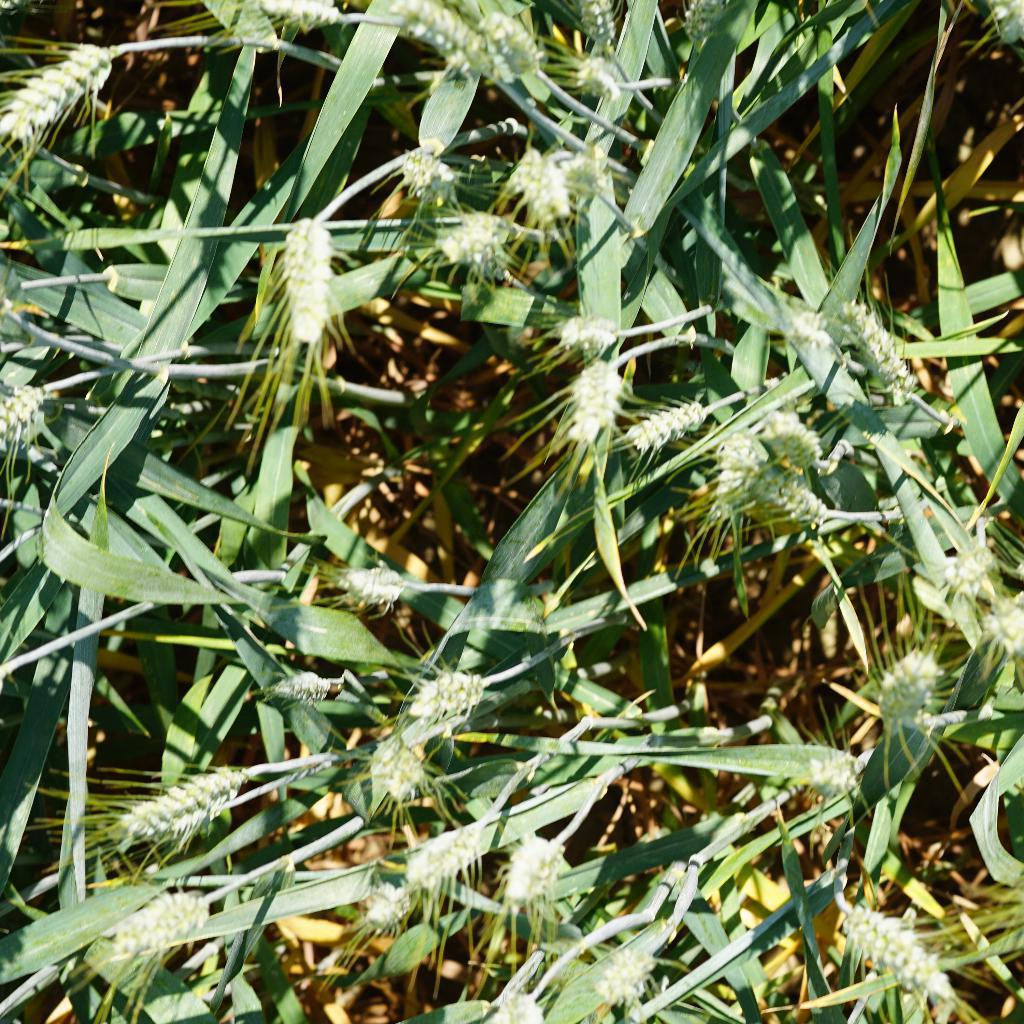0-0: (828, 899, 971, 1009), (0, 28, 137, 135), (817, 277, 930, 403), (107, 763, 254, 844), (266, 201, 343, 348), (856, 635, 950, 740), (101, 878, 213, 961), (744, 464, 851, 542), (397, 0, 500, 79), (429, 198, 524, 271), (605, 387, 710, 453), (395, 817, 484, 892), (698, 422, 769, 514), (561, 350, 628, 444), (793, 737, 881, 806), (408, 661, 488, 736), (503, 821, 574, 905), (919, 533, 1002, 604), (586, 935, 660, 1013), (251, 660, 347, 720), (497, 149, 574, 221), (0, 362, 51, 470), (324, 549, 408, 609), (758, 403, 829, 470), (397, 135, 458, 212), (374, 729, 434, 804), (482, 14, 553, 77), (350, 871, 419, 934), (553, 145, 617, 208), (776, 295, 844, 352), (247, 0, 346, 33), (559, 306, 630, 352), (574, 48, 626, 109), (979, 593, 1024, 658), (561, 0, 630, 41), (675, 0, 737, 44)
